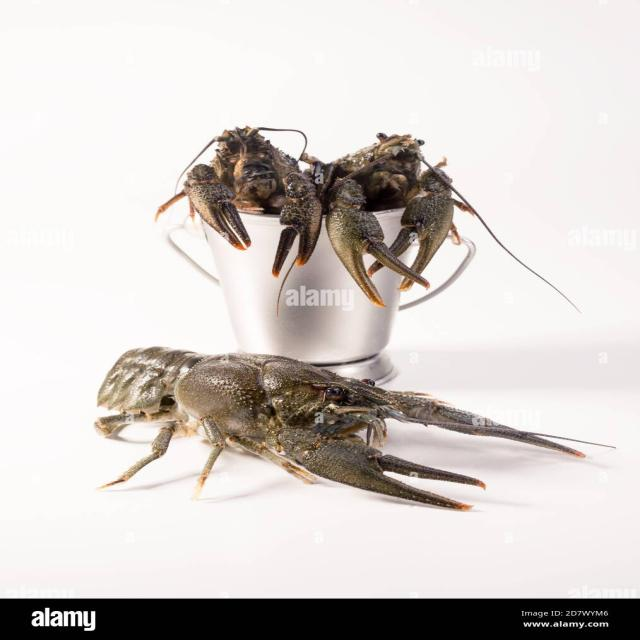Crawfish: (96, 348, 583, 509), (326, 134, 468, 306), (185, 128, 322, 278)
